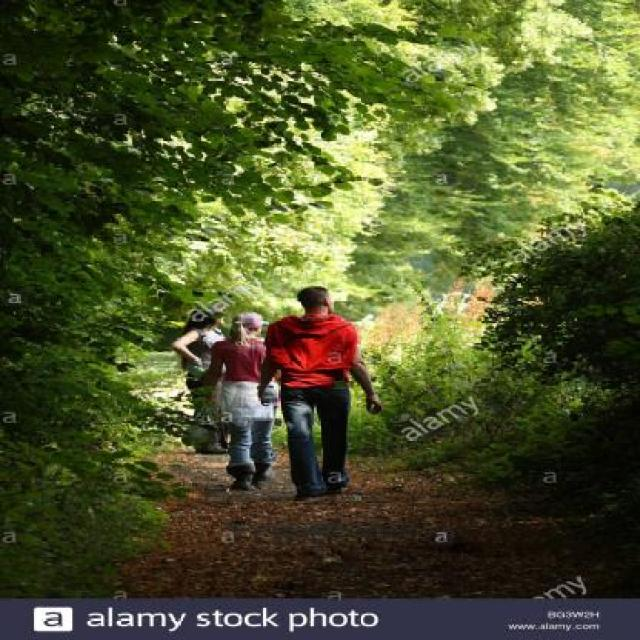sem_oculos: (314, 290, 338, 303), (250, 322, 267, 334), (212, 314, 226, 321)
